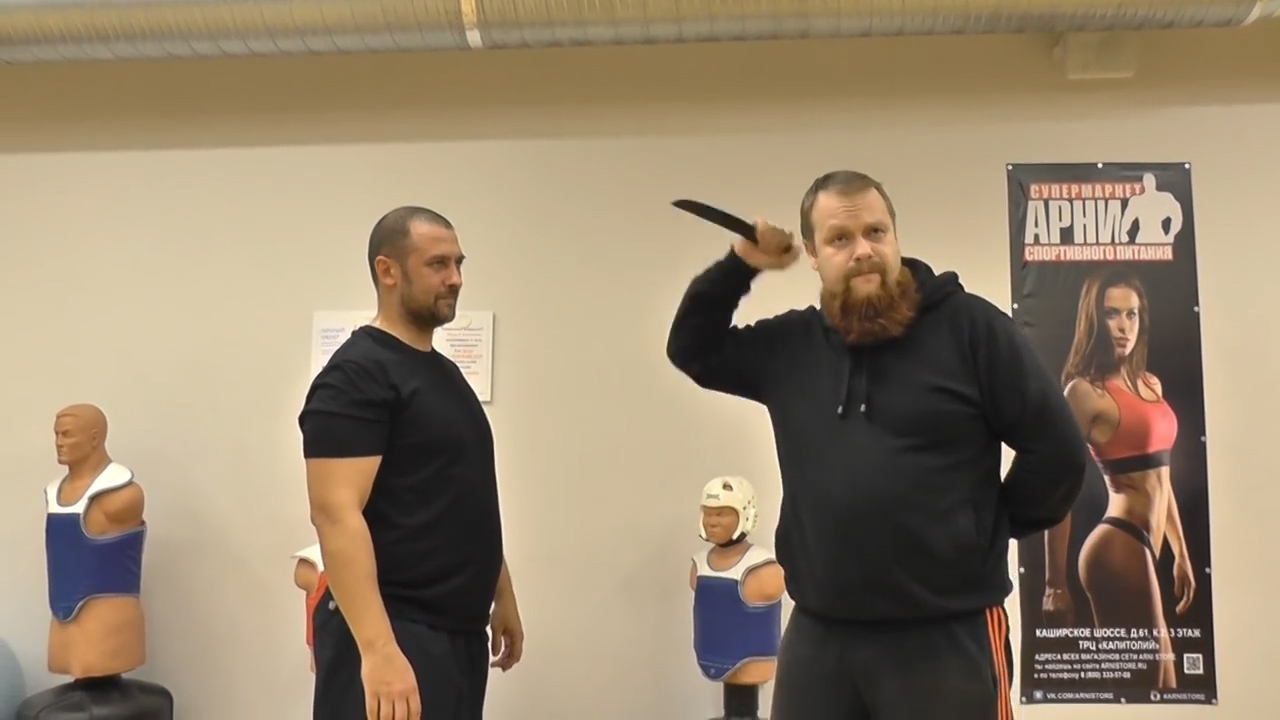knife: (661, 190, 801, 270)
